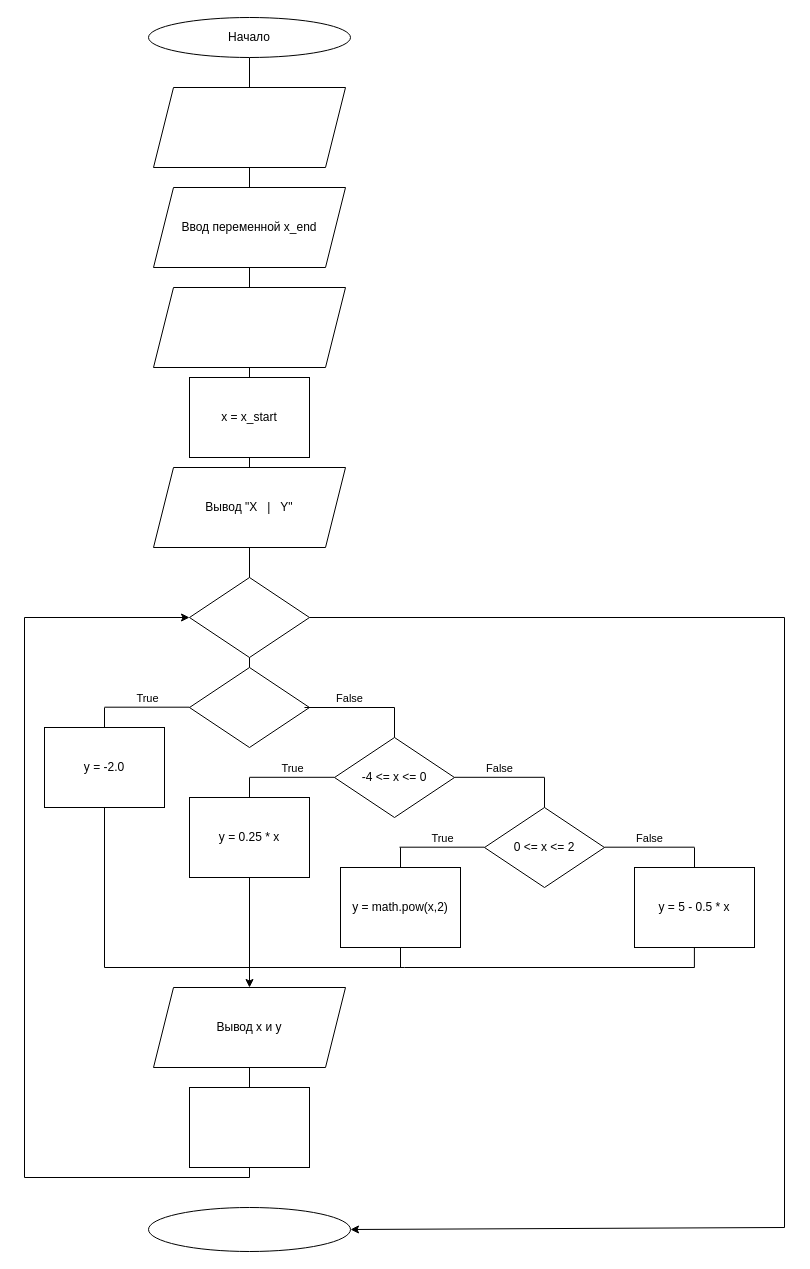
This 810x1269 diagram has some shape labels left out. The shapes that lost their labels are listed below. From the top down, each one's centre as x and y in pixels, then its label:
At pixel 249 127: "Ввод переменной x_start".
At pixel 249 327: "Ввод переменной dx".
At pixel 249 617: "x <= x _end".
At pixel 249 707: "x < -4.0".
At pixel 249 1127: "x += dx".
At pixel 249 1229: "Конец".
